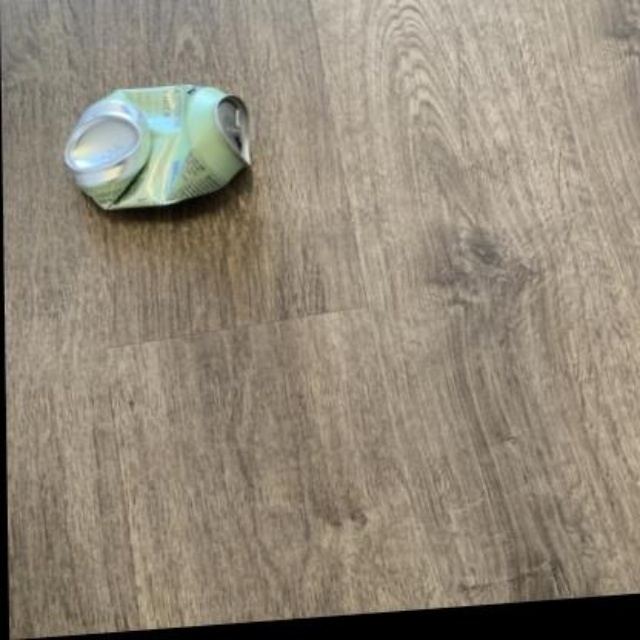trash: (65, 85, 249, 208)
